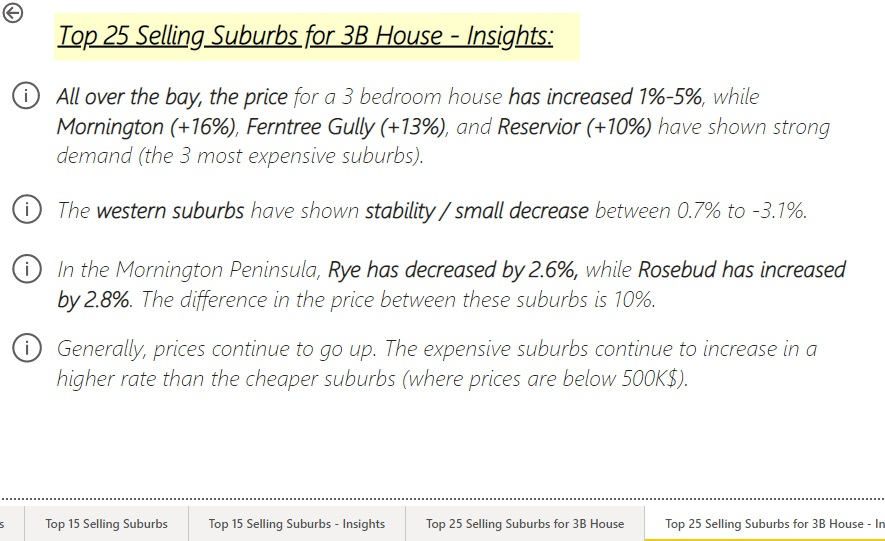

What the dashboard file says about the page in this screenshot:
{"tool":"powerbi","page":{"name":"Top 15 Sales Suburbs - Notes","canvas":[1280,720],"ordinal":3},"visuals":[{"type":"textbox","box":[78.1,22.3,693.4,66.9],"z":0},{"type":"textbox","box":[78.1,111.6,1152.5,164.2],"z":1000},{"type":"textbox","box":[78.1,275.8,1154.1,84.5],"z":2000},{"type":"actionButton","box":[13,111.1,51.9,56.3],"z":3000},{"type":"actionButton","box":[13,278.5,51.9,56.3],"z":4000},{"type":"textbox","box":[78.1,360.2,1154.1,165.8],"z":5000},{"type":"actionButton","box":[12.8,360.2,52.6,55.8],"z":6000}]}

Visuals, with their boxes on the page's 1280x720 design canvas (x1, y1, x2, y2). These are canvas units, not pixel positions in the 885x541 screenshot, which may show the page scaled, cropped or inside an application window:
textbox: detection(78, 22, 772, 89)
textbox: detection(78, 112, 1231, 276)
textbox: detection(78, 276, 1232, 360)
actionButton: detection(13, 111, 65, 167)
actionButton: detection(13, 278, 65, 335)
textbox: detection(78, 360, 1232, 526)
actionButton: detection(13, 360, 65, 416)
